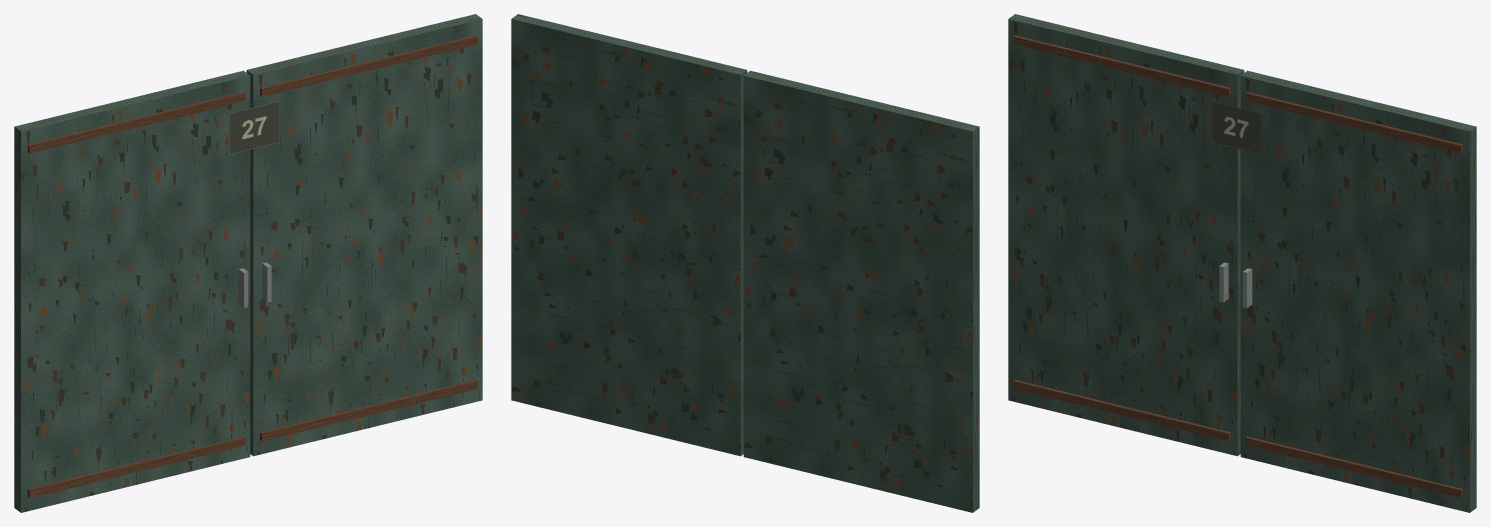
File: CIS_GarageDoor.glb
3 views of the same model, side by side, from view 1: azimuth 30°, elevation 25°; view 2: azimuth 150°, elevation 25°; view 3: azimuth 330°, elevation 25° (orthographic).
Parts seen in each view (by area): view 1: CIS_GarageDoor; view 2: CIS_GarageDoor; view 3: CIS_GarageDoor.
Part boxes in pixels (x1,y1,x2,y2): CIS_GarageDoor: (14,14,482,512); CIS_GarageDoor: (511,14,979,512); CIS_GarageDoor: (1008,14,1476,512).
Bounding box in the file's own units: 3.14 × 2.48 × 0.15.
4 materials, 4 textured.
